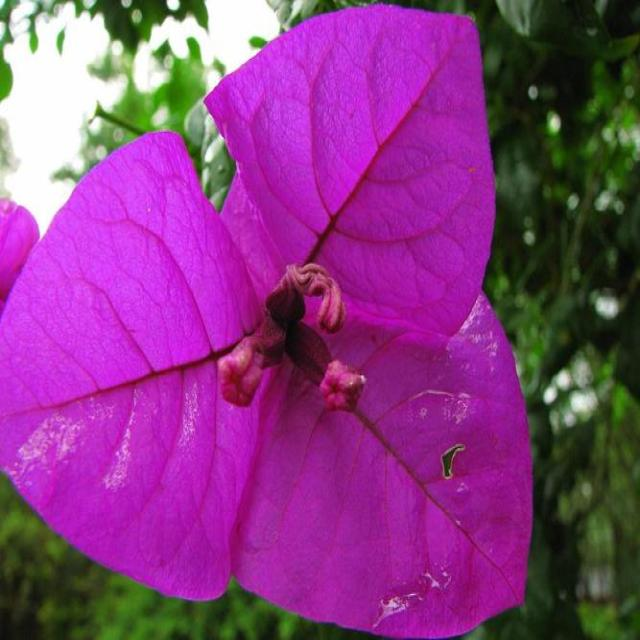bougainvillea: (15, 23, 590, 628)
